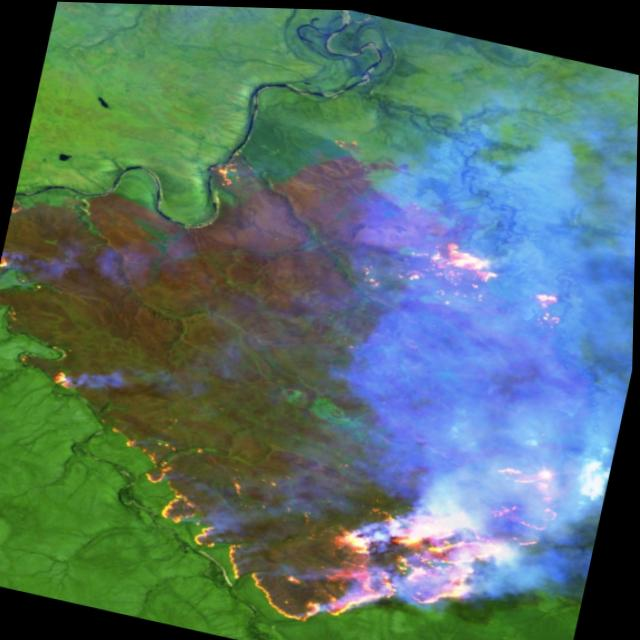fire: (0, 69, 639, 640)
